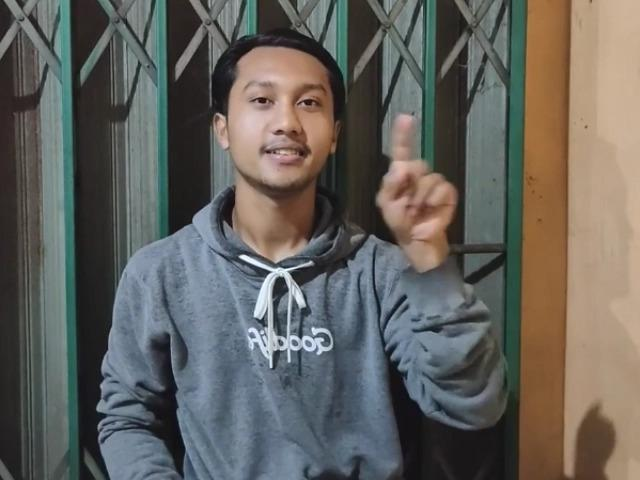Z: (372, 114, 458, 244)
